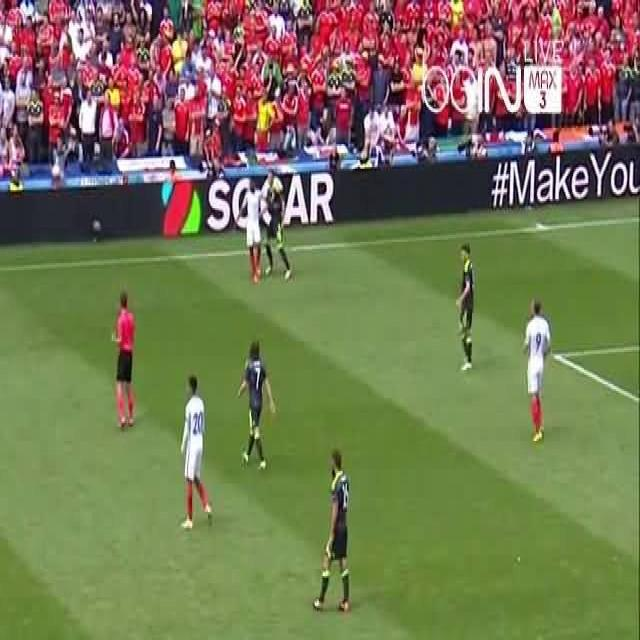player-white: (312, 449, 351, 611), (180, 375, 214, 529), (237, 341, 276, 471), (522, 298, 551, 445), (259, 170, 291, 282), (112, 293, 136, 427), (237, 180, 267, 284), (455, 245, 473, 372)
